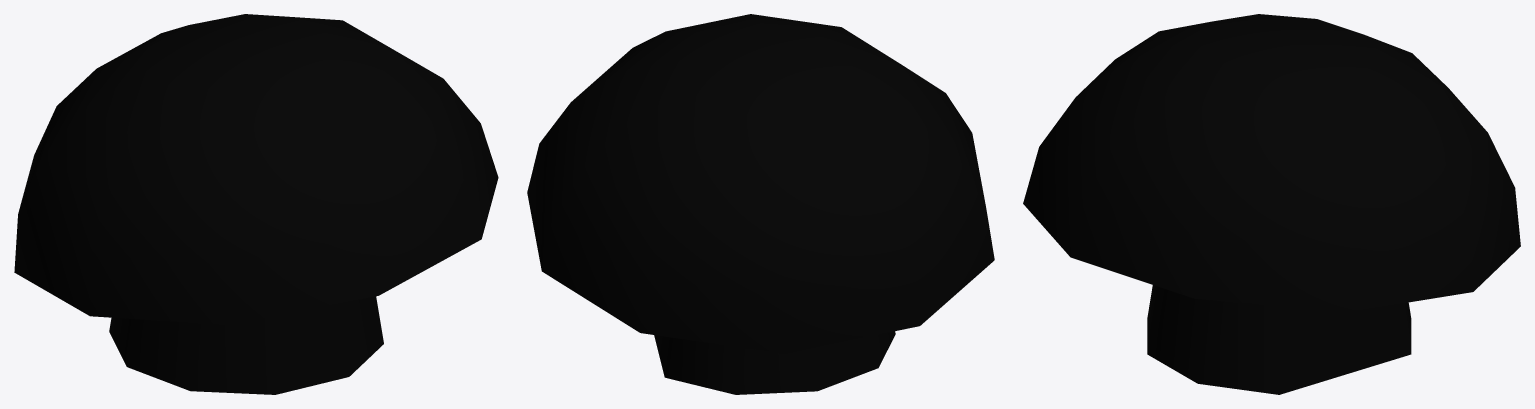
File: Mushroom.fbx
3 views of the same model, side by side, from view 1: azimuth 30°, elevation 25°; view 2: azimuth 150°, elevation 25°; view 3: azimuth 270°, elevation 25° (orthographic). The views are drawn at different scales.
Visible parts, largest first — view 1: polySurface5; view 2: polySurface5; view 3: polySurface5.
Part boxes in pixels (<box>): polySurface5: <box>14,14,498,394</box>; polySurface5: <box>527,14,994,394</box>; polySurface5: <box>1023,14,1520,394</box>.
Bounding box in the file's own units: 117 × 80.6 × 123.
